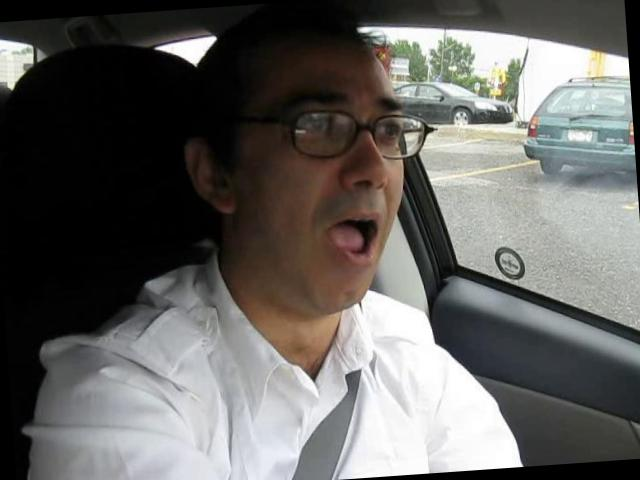eye_open: (293, 107, 355, 148), (368, 114, 408, 151)
face: (256, 79, 418, 321)
mouth_open: (320, 204, 386, 265)
